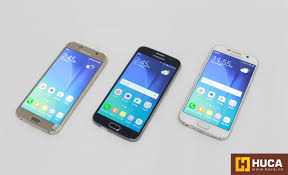samsung: (16, 38, 109, 138), (177, 40, 262, 142)
